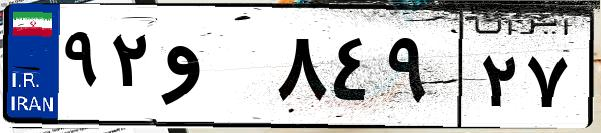2: (475, 38, 525, 113), (110, 28, 158, 98)
4: (330, 28, 385, 110)
7: (525, 38, 570, 115)
8: (270, 28, 330, 110)
9: (385, 28, 445, 110), (57, 26, 110, 100)
و: (158, 20, 270, 120)
